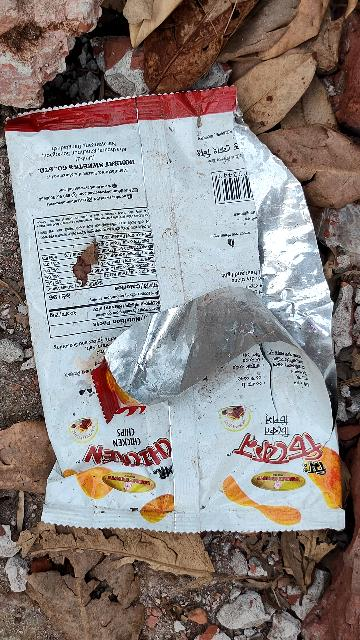packet: (0, 75, 337, 584)
